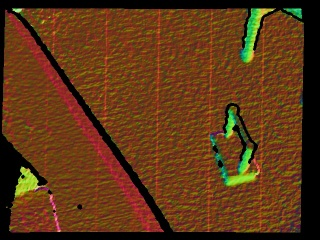station: (211, 103, 259, 187)
